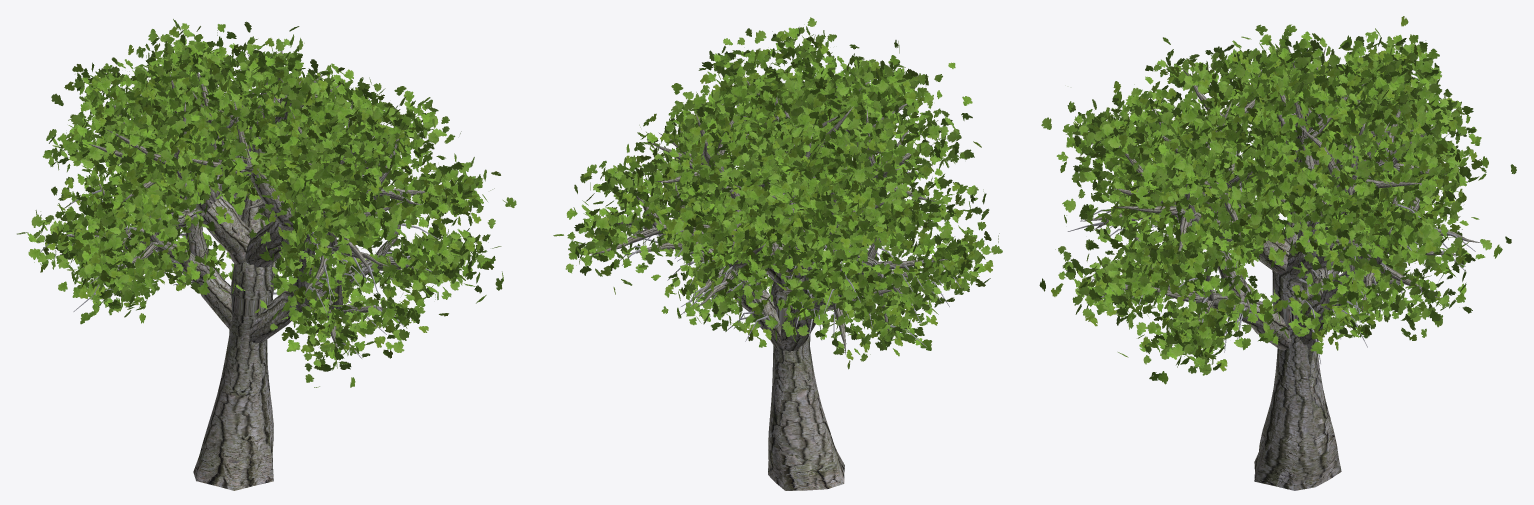
3 renders of one model, left to right at view 1: azimuth 30°, elevation 25°; view 2: azimuth 150°, elevation 25°; view 3: azimuth 270°, elevation 25°, orthographic. The views are drawn at different scales.
Parts seen in each view (by area): view 1: Tilo foliage cards, Tilo_EasyTree_V022_Proof, Tilo V022 delicate lower branches; view 2: Tilo foliage cards, Tilo_EasyTree_V022_Proof, Tilo V022 delicate lower branches; view 3: Tilo foliage cards, Tilo_EasyTree_V022_Proof, Tilo V022 delicate lower branches.
Boxes of the visible parts, <box> form: Tilo foliage cards: <box>17,19,516,387</box>; Tilo_EasyTree_V022_Proof: <box>67,51,446,490</box>; Tilo V022 delicate lower branches: <box>40,175,439,358</box>; Tilo foliage cards: <box>553,17,1002,369</box>; Tilo_EasyTree_V022_Proof: <box>591,65,947,490</box>; Tilo V022 delicate lower branches: <box>620,171,960,346</box>; Tilo foliage cards: <box>1039,16,1516,384</box>; Tilo_EasyTree_V022_Proof: <box>1081,44,1481,490</box>; Tilo V022 delicate lower branches: <box>1067,203,1475,363</box>.
Size of the model in its own units: 6.02 by 5.75 by 5.84.
Materials: 2 (2 with a texture image).
